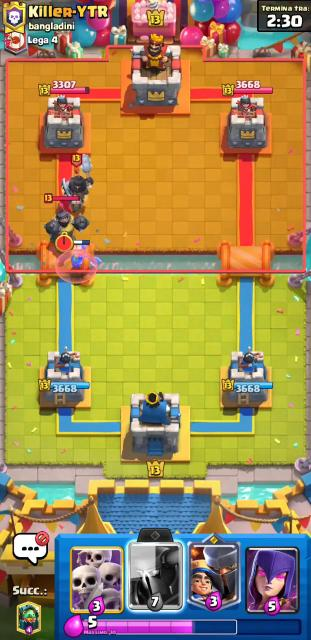enemy_melee: (42, 193, 90, 242), (60, 152, 94, 214)
